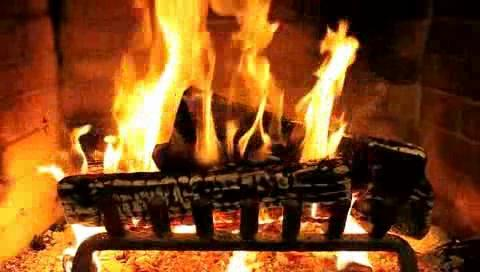fire: (38, 0, 427, 272)
